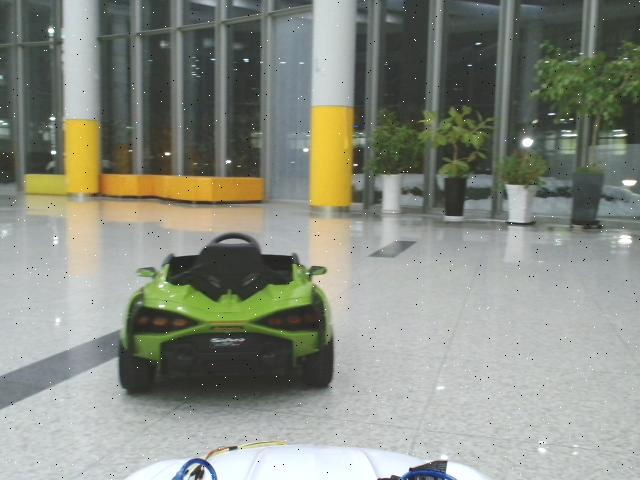car: (120, 233, 335, 396)
